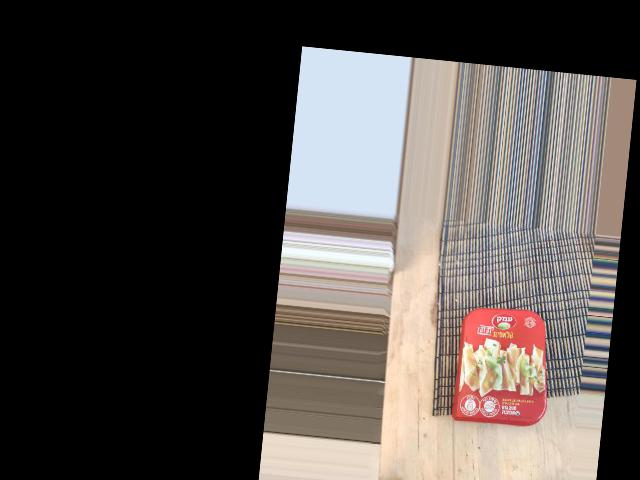cheese: (458, 256, 588, 360)
